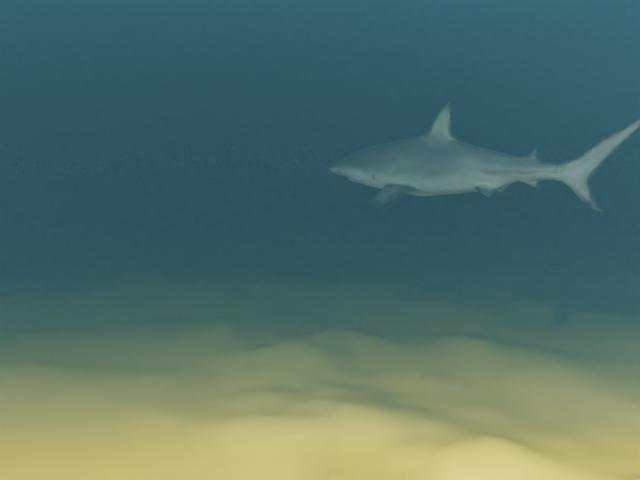Carribean Shark.001: (329, 101, 640, 212)
